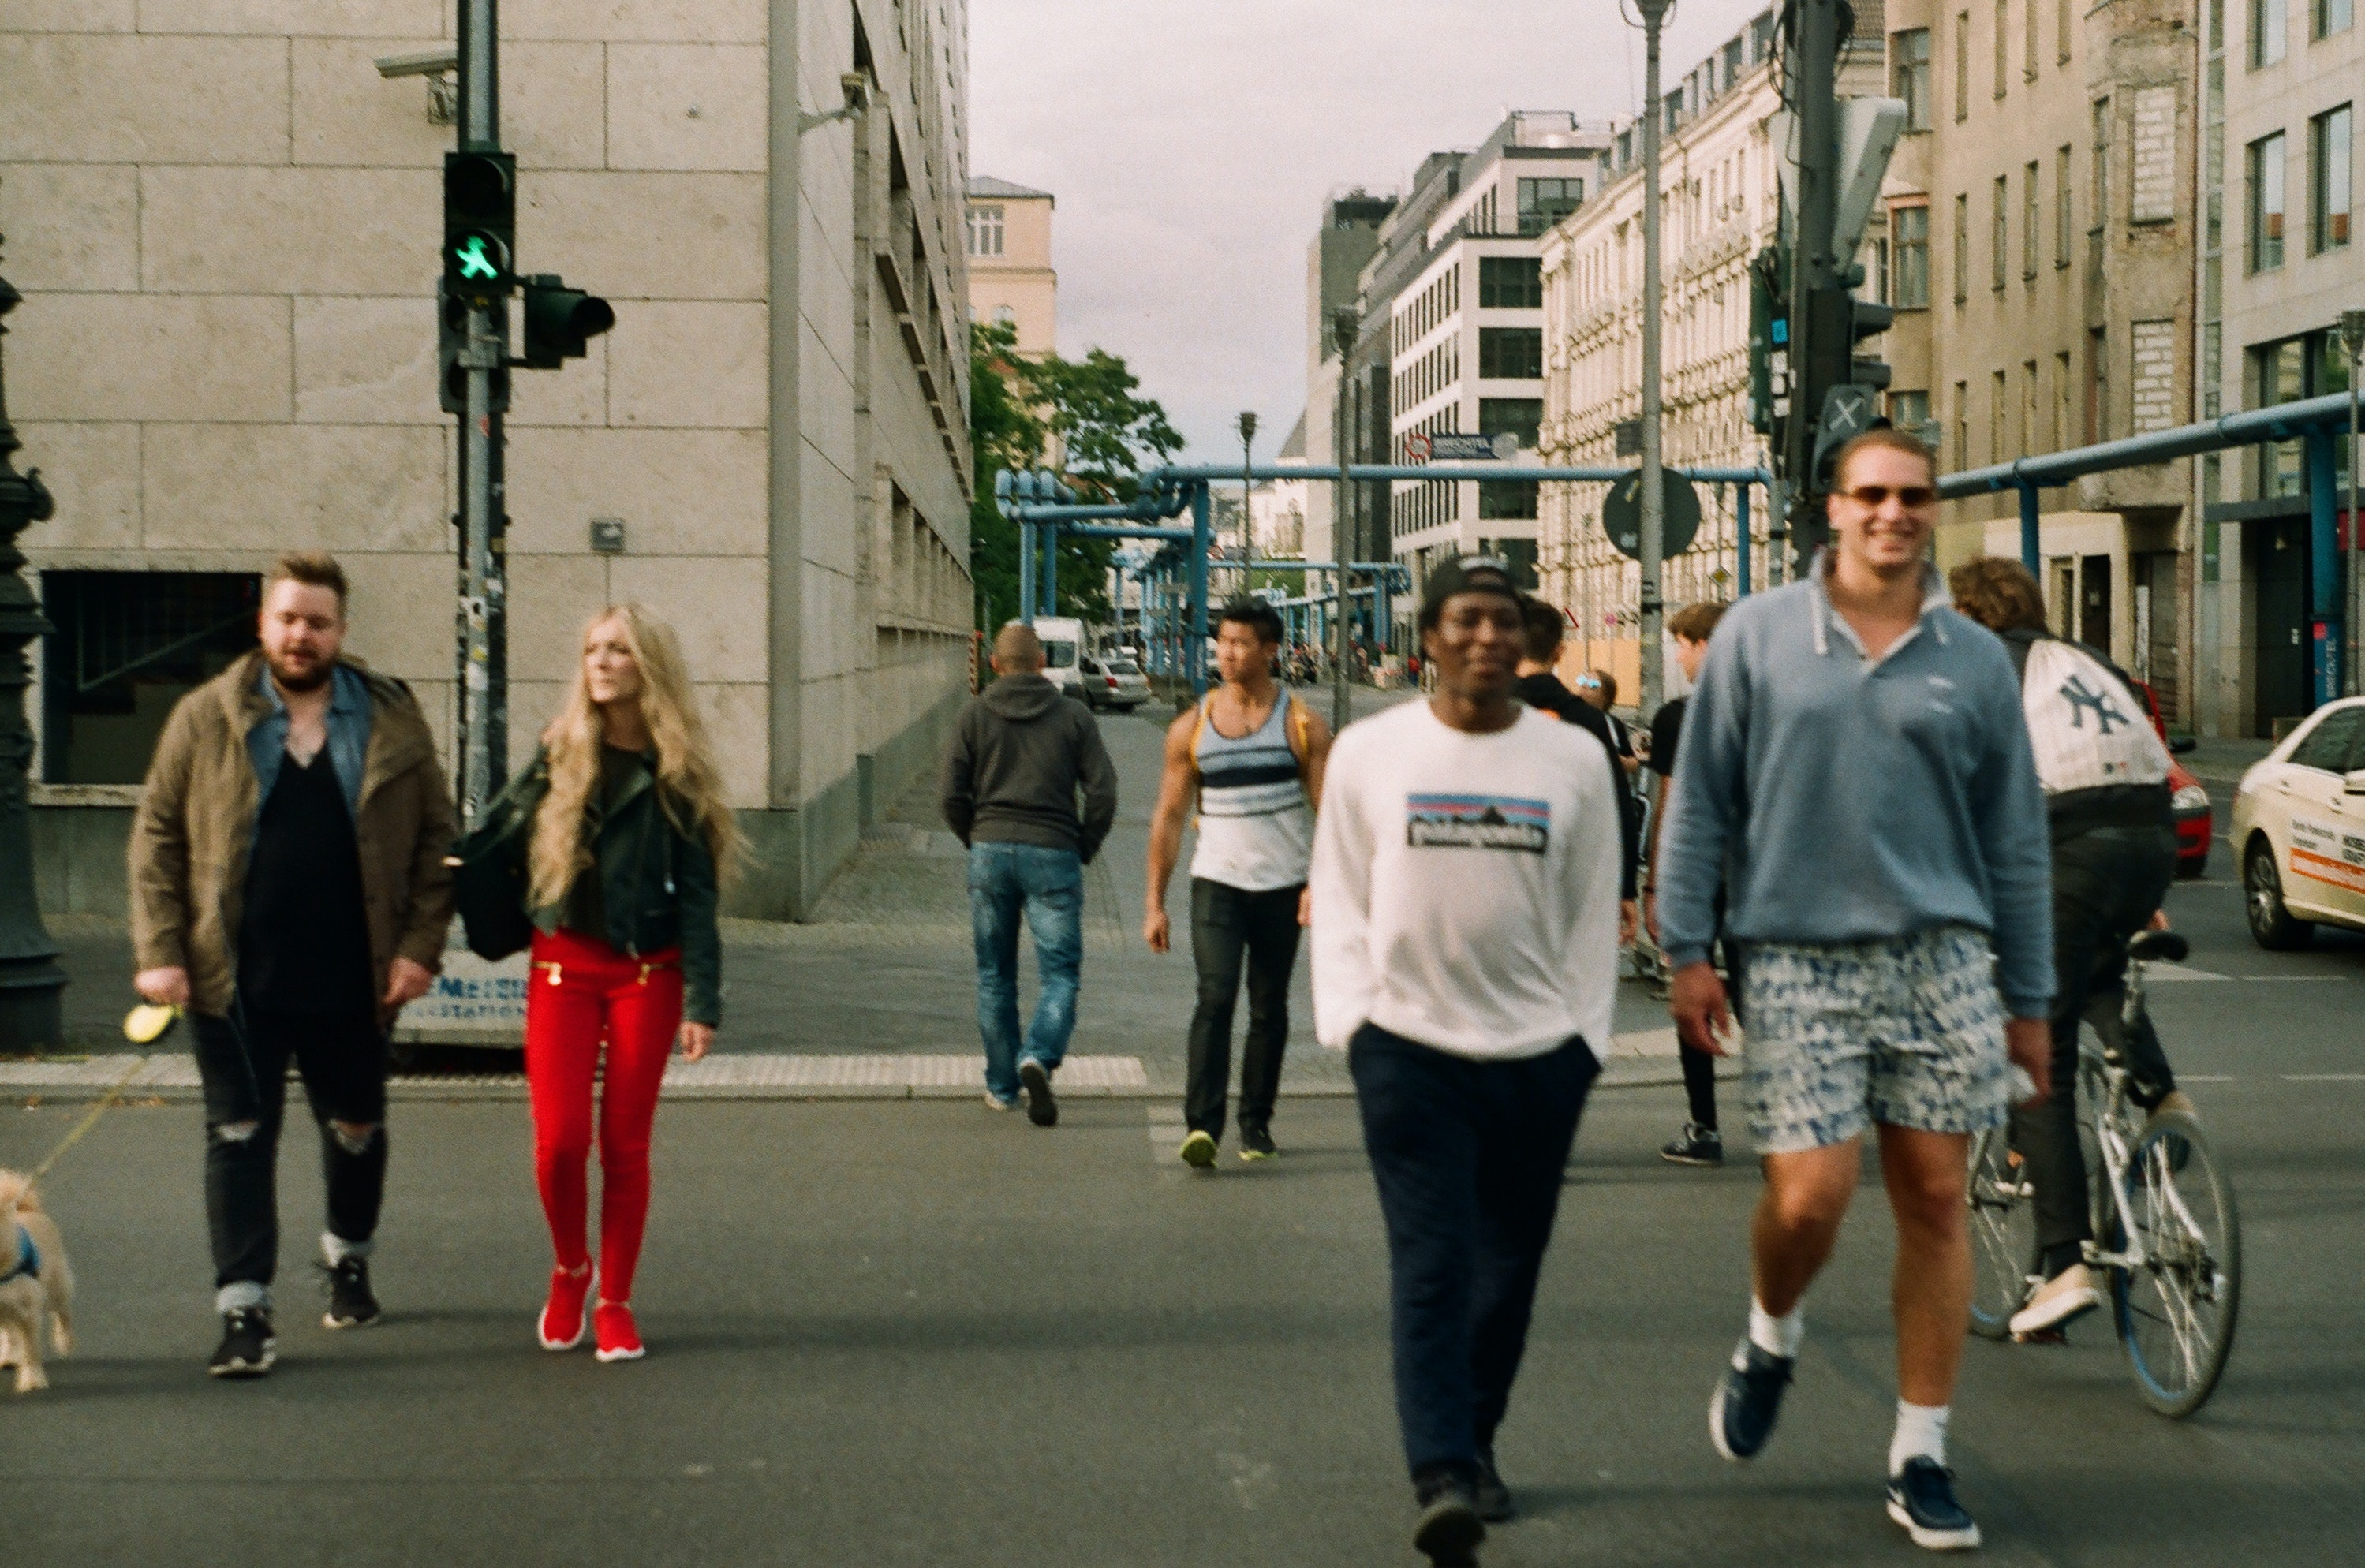person: (1640, 391, 2087, 1568), (1295, 536, 1642, 1567), (117, 536, 473, 1394), (455, 566, 768, 1385), (1132, 576, 1347, 1226), (926, 578, 1130, 1146)
